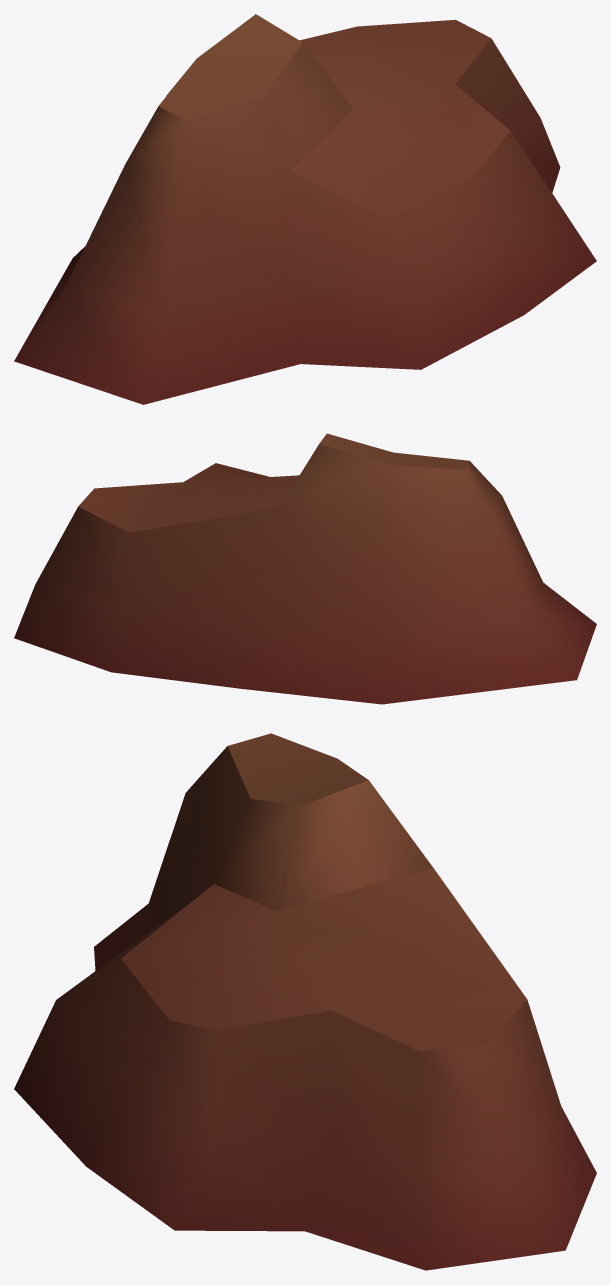
Rendered from Mountain_big.041.fbx.
The picture shows the model from 3 angles, top to bottom: view 1: azimuth 30°, elevation 25°; view 2: azimuth 150°, elevation 25°; view 3: azimuth 270°, elevation 25°; orthographic projection. The views are drawn at different scales.
Parts seen in each view (by area): view 1: Mountain_big.041; view 2: Mountain_big.041; view 3: Mountain_big.041.
Boxes of the visible parts, x1=… form: Mountain_big.041: x1=14, y1=14, x2=596, y2=404; Mountain_big.041: x1=14, y1=433, x2=596, y2=704; Mountain_big.041: x1=14, y1=733, x2=596, y2=1270.
Bounding box in the file's own units: 527 × 208 × 367.
